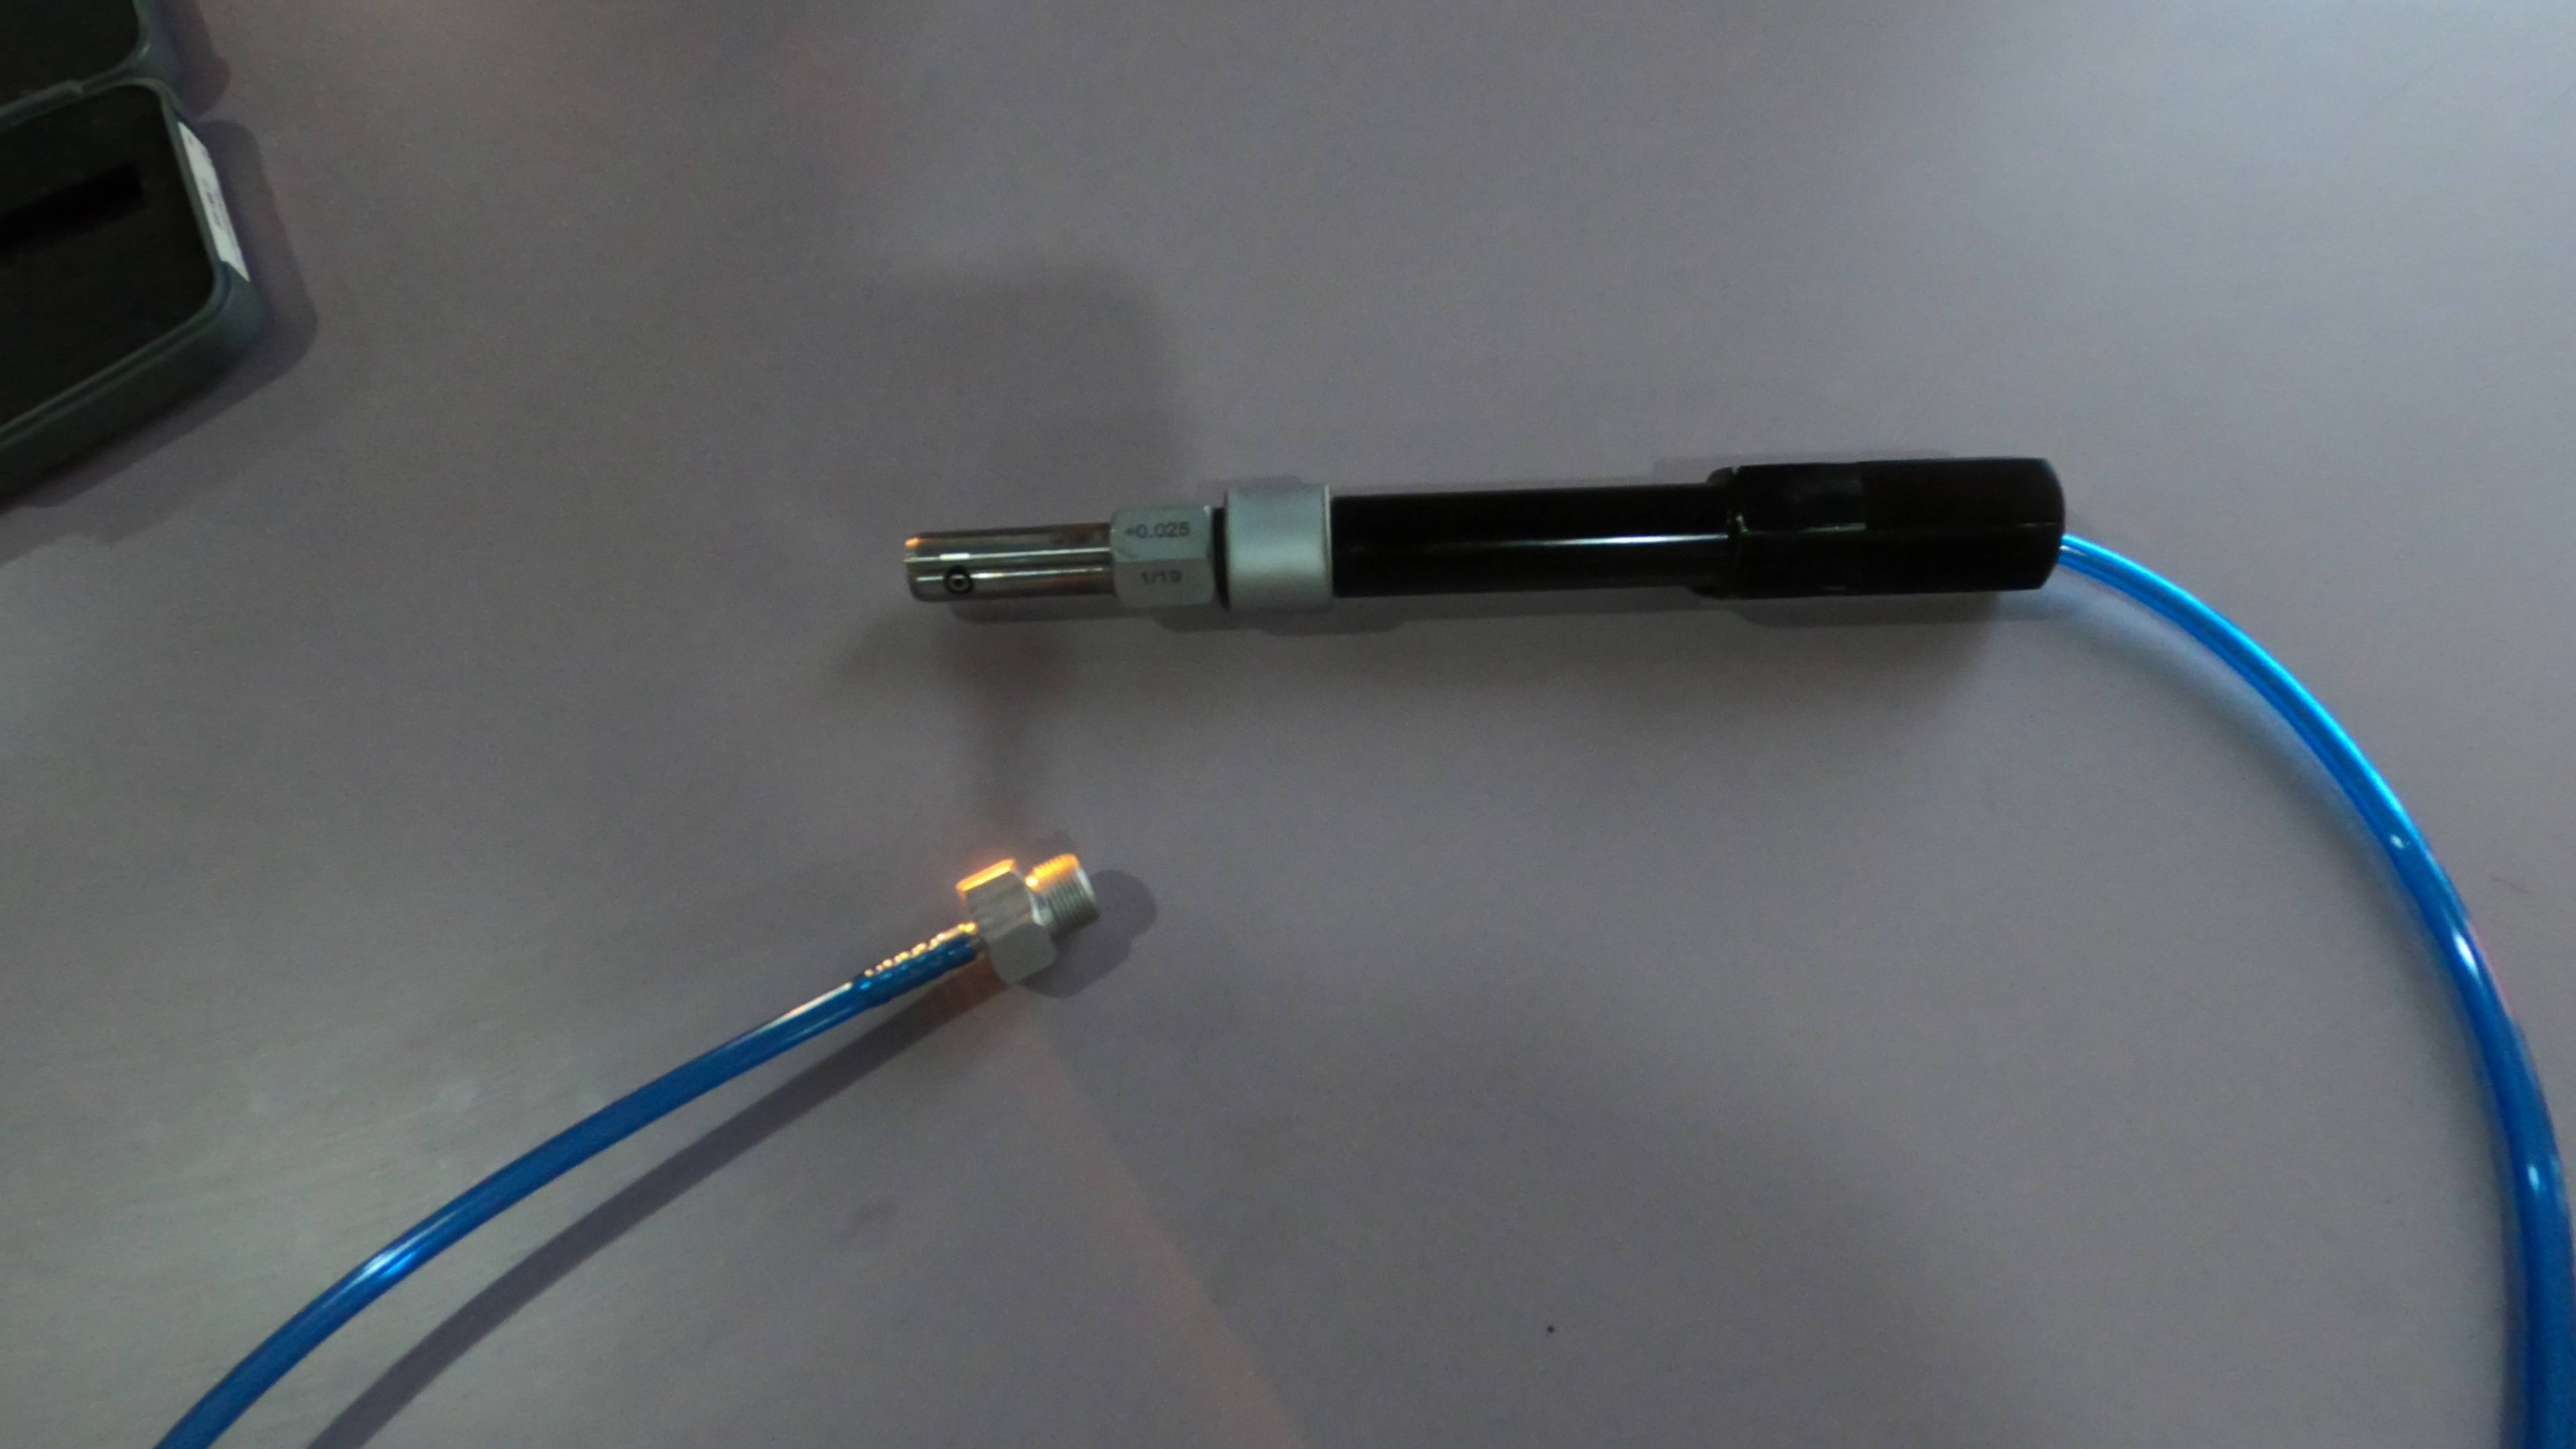air_gauge: (901, 455, 2074, 630)
